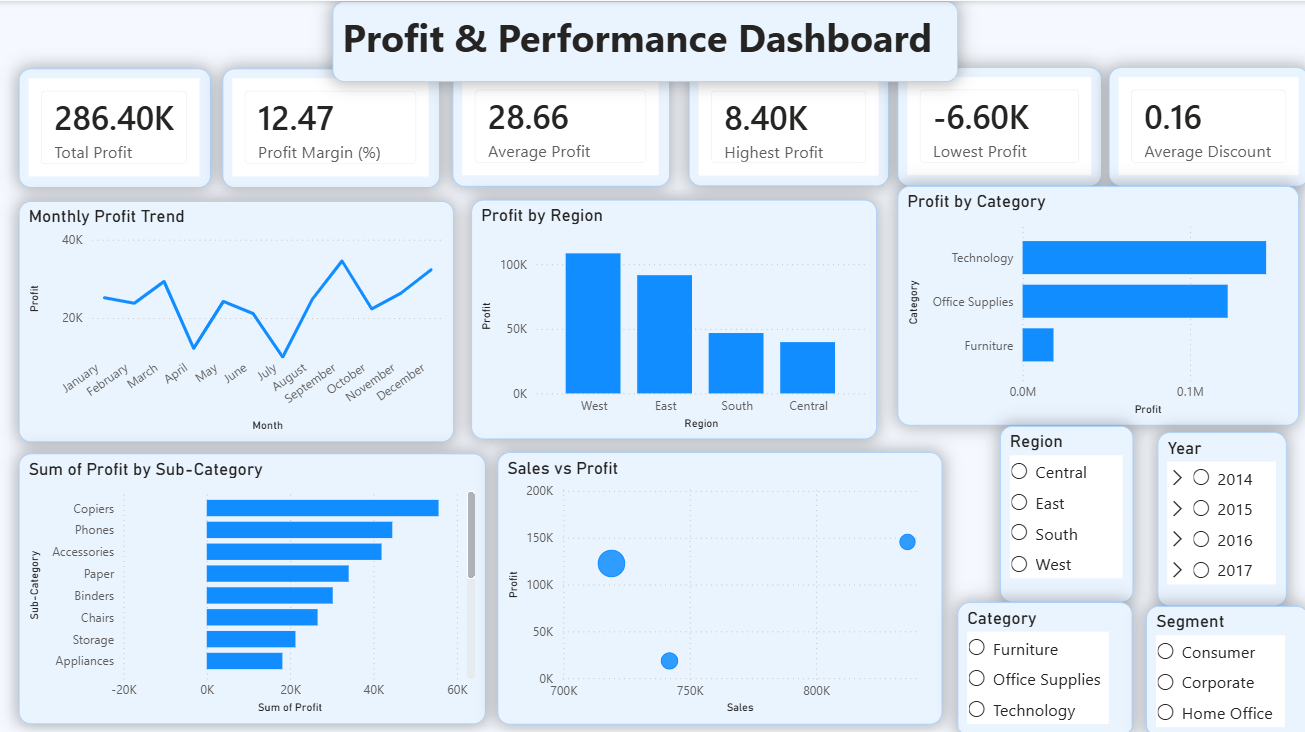

The page's visual inventory and layout, read from the dashboard file:
{"tool":"powerbi","page":{"name":"Profit & Performance","canvas":[1280,720],"ordinal":2},"visuals":[{"type":"cardVisual","fields":{"Data":["superstore_sales_cleaned.Total Profit"]},"box":[17.8,65.9,188,116.6],"z":0},{"type":"cardVisual","fields":{"Data":["superstore_sales_cleaned.Profit Margin"]},"box":[218.2,65.9,212.7,116.6],"z":1000},{"type":"cardVisual","fields":{"Data":["superstore_sales_cleaned.Average Profit"]},"box":[443.2,64.5,212.7,116.6],"z":2000},{"type":"cardVisual","fields":{"Data":["superstore_sales_cleaned.Highest Profit"]},"box":[673.8,65.9,196.2,115.3],"z":3000},{"type":"cardVisual","fields":{"Data":["superstore_sales_cleaned.Lowest Profit"]},"box":[878.2,64.5,200.3,116.6],"z":4000},{"type":"cardVisual","fields":{"Data":["superstore_sales_cleaned.Average Discount"]},"box":[1084.1,64.5,196.2,116.6],"z":5000},{"type":"lineChart","title":"Monthly Profit Trend","fields":{"Category":["superstore_sales_cleaned.Order Date.Variation.Date Hierarchy.Month"],"Y":["Sum(superstore_sales_cleaned.Profit)"]},"box":[17.8,196.2,425.4,236],"z":6000},{"type":"clusteredColumnChart","fields":{"Category":["superstore_sales_cleaned.Region"],"Y":["Sum(superstore_sales_cleaned.Profit)"]},"box":[461.1,194.9,396.6,234.6],"z":7000},{"type":"barChart","fields":{"Category":["superstore_sales_cleaned.Category"],"Y":["Sum(superstore_sales_cleaned.Profit)"]},"box":[878.2,181.1,392.5,234.6],"z":8000},{"type":"clusteredBarChart","fields":{"Category":["superstore_sales_cleaned.Sub-Category"],"Y":["Sum(superstore_sales_cleaned.Profit)"]},"box":[17.8,443.2,456.9,264.8],"z":9000},{"type":"scatterChart","title":"Sales vs Profit","fields":{"X":["Sum(superstore_sales_cleaned.Sales)"],"Y":["Sum(superstore_sales_cleaned.Profit)"],"Category":["superstore_sales_cleaned.Category"],"Size":["Sum(superstore_sales_cleaned.Quantity)"]},"box":[487.1,441.9,435,266.2],"z":10000},{"type":"textbox","box":[325.2,0,612,79.6],"z":11000},{"type":"listSlicer","fields":{"Values":["superstore_sales_cleaned.Order Date.Variation.Date Hierarchy.Year","superstore_sales_cleaned.Order Date.Variation.Date Hierarchy.Month","superstore_sales_cleaned.Order Date.Variation.Date Hierarchy.Day"]},"box":[1132.1,421.3,126.2,170.2],"z":12000},{"type":"listSlicer","fields":{"Values":["superstore_sales_cleaned.Region"]},"box":[978.4,415.8,130.4,172.9],"z":13000},{"type":"listSlicer","fields":{"Values":["superstore_sales_cleaned.Category"]},"box":[937.2,588.7,171.5,131.7],"z":14000},{"type":"listSlicer","fields":{"Values":["superstore_sales_cleaned.Segment"]},"box":[1121.1,591.4,159.2,129],"z":15000}]}

Visuals, with their boxes in screenshot pixels (x1, y1, x2, y2), scaled from the page's 1280x720 canvas onto the 1305x732 screenshot:
cardVisual - superstore_sales_cleaned.Total Profit: <box>18,67,210,186</box>
cardVisual - superstore_sales_cleaned.Profit Margin: <box>222,67,439,186</box>
cardVisual - superstore_sales_cleaned.Average Profit: <box>452,66,669,184</box>
cardVisual - superstore_sales_cleaned.Highest Profit: <box>687,67,887,184</box>
cardVisual - superstore_sales_cleaned.Lowest Profit: <box>895,66,1100,184</box>
cardVisual - superstore_sales_cleaned.Average Discount: <box>1105,66,1304,184</box>
"Monthly Profit Trend" lineChart: <box>18,199,452,439</box>
clusteredColumnChart - superstore_sales_cleaned.Region x Sum(superstore_sales_cleaned.Profit): <box>470,198,874,437</box>
barChart - superstore_sales_cleaned.Category x Sum(superstore_sales_cleaned.Profit): <box>895,184,1296,423</box>
clusteredBarChart - superstore_sales_cleaned.Sub-Category x Sum(superstore_sales_cleaned.Profit): <box>18,451,484,720</box>
"Sales vs Profit" scatterChart: <box>497,449,940,720</box>
textbox: <box>332,0,956,81</box>
listSlicer - superstore_sales_cleaned.Order Date.Variation.Date Hierarchy.Year x superstore_sales_cleaned.Order Date.Variation.Date Hierarchy.Month: <box>1154,428,1283,601</box>
listSlicer - superstore_sales_cleaned.Region: <box>998,423,1130,599</box>
listSlicer - superstore_sales_cleaned.Category: <box>956,599,1130,731</box>
listSlicer - superstore_sales_cleaned.Segment: <box>1143,601,1304,731</box>
